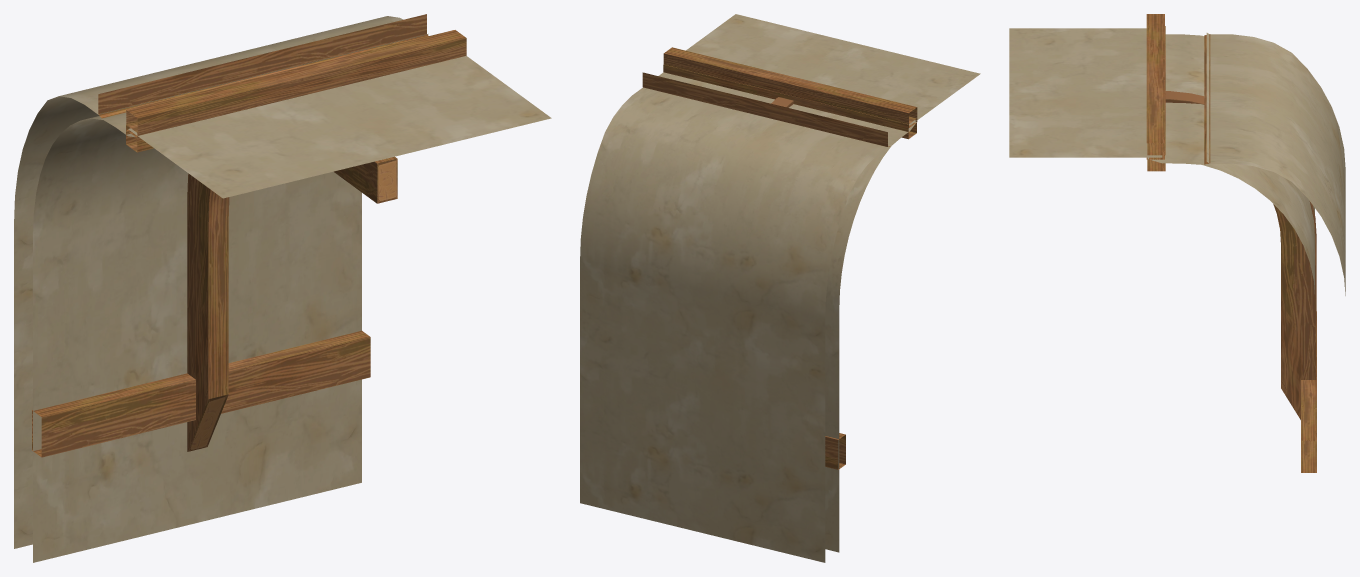
File: Overhang_Plaster_Long.glb
3 renders of one model, left to right at view 1: azimuth 30°, elevation 25°; view 2: azimuth 150°, elevation 25°; view 3: azimuth 270°, elevation 25°, orthographic. The views are drawn at different scales.
Visible parts, largest first — view 1: Overhang_Plaster_Long; view 2: Overhang_Plaster_Long; view 3: Overhang_Plaster_Long.
Boxes of the visible parts, bbox=[...] form: Overhang_Plaster_Long: bbox=[14, 14, 551, 562]; Overhang_Plaster_Long: bbox=[580, 14, 980, 562]; Overhang_Plaster_Long: bbox=[1009, 14, 1345, 472].
Size of the model in its own units: 2 by 3.03 by 2.2.
2 materials, 2 textured.
